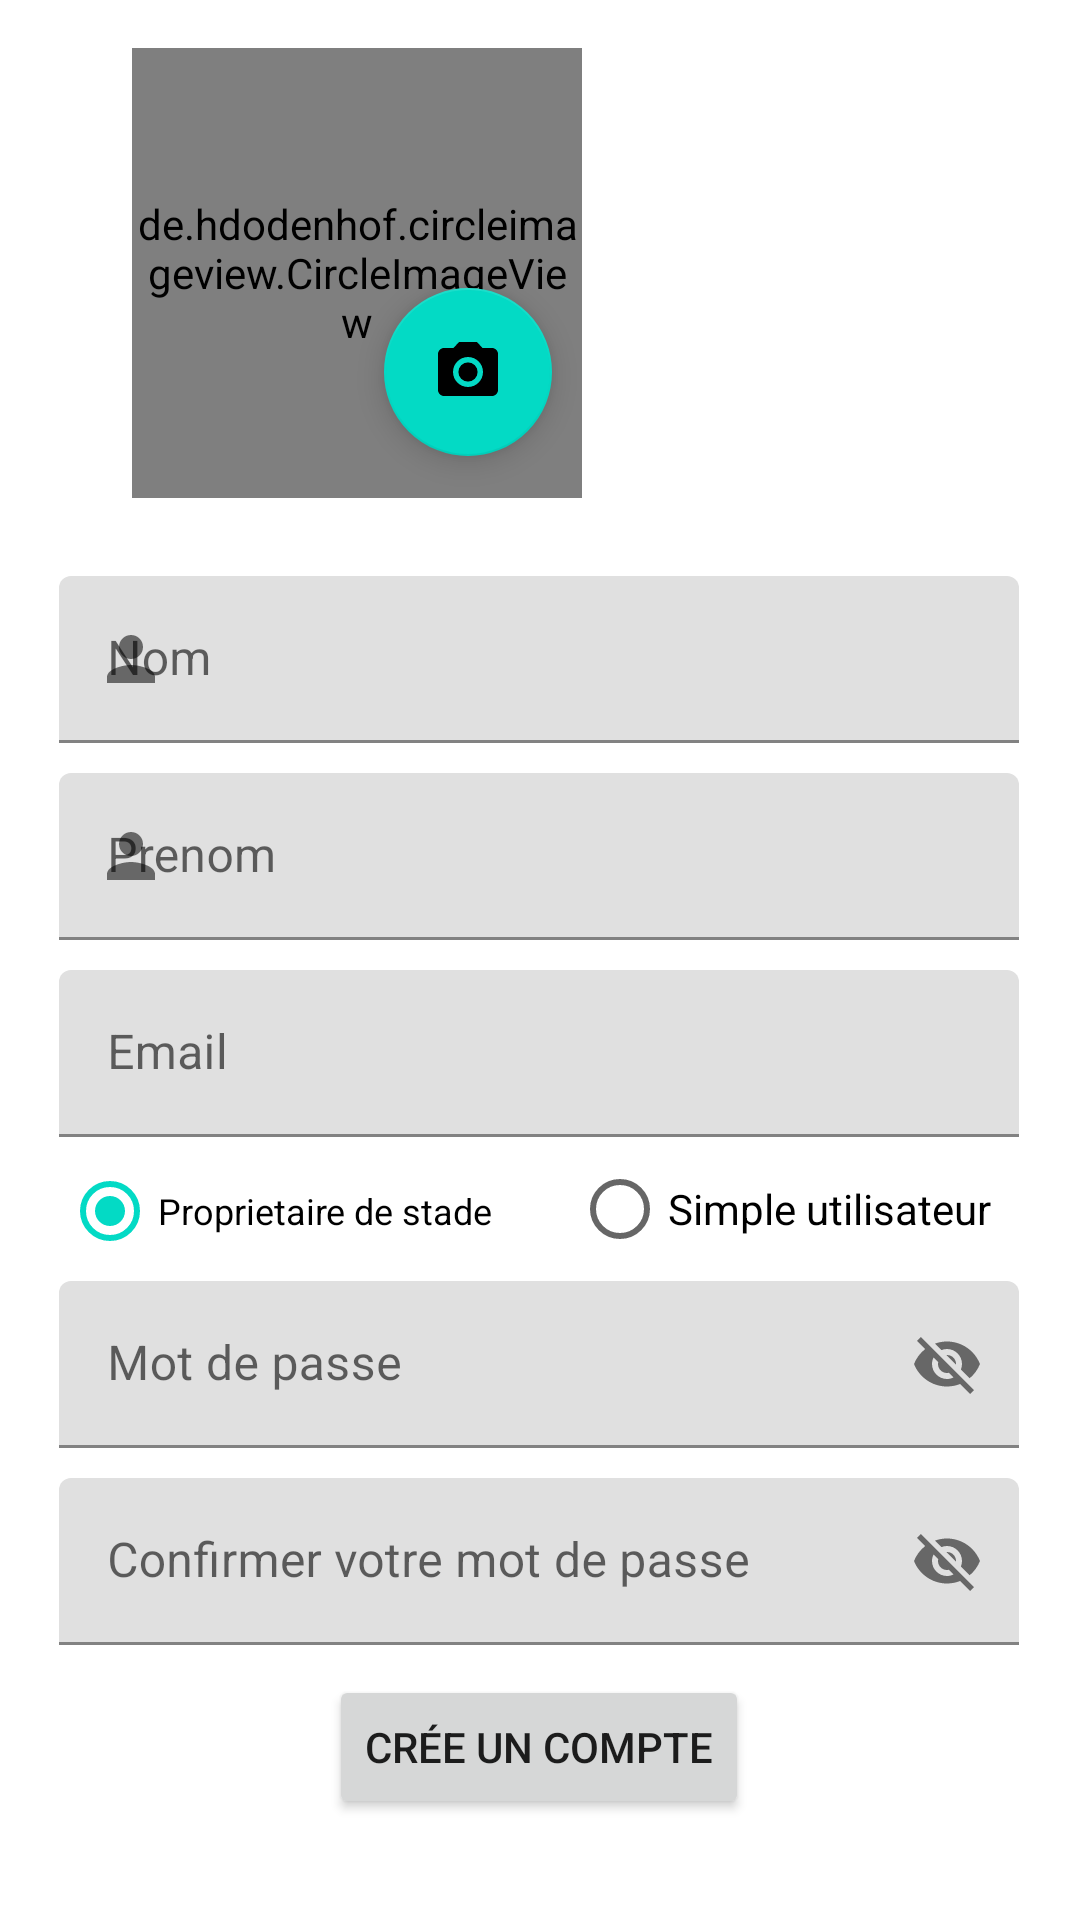

Icons on this 1080*1920 Android screen, each with the point to tap as point (x, y):
photo camera: point (468, 372)
